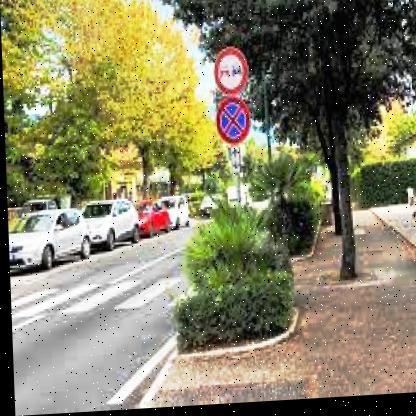No stopping: (210, 98, 250, 149)
